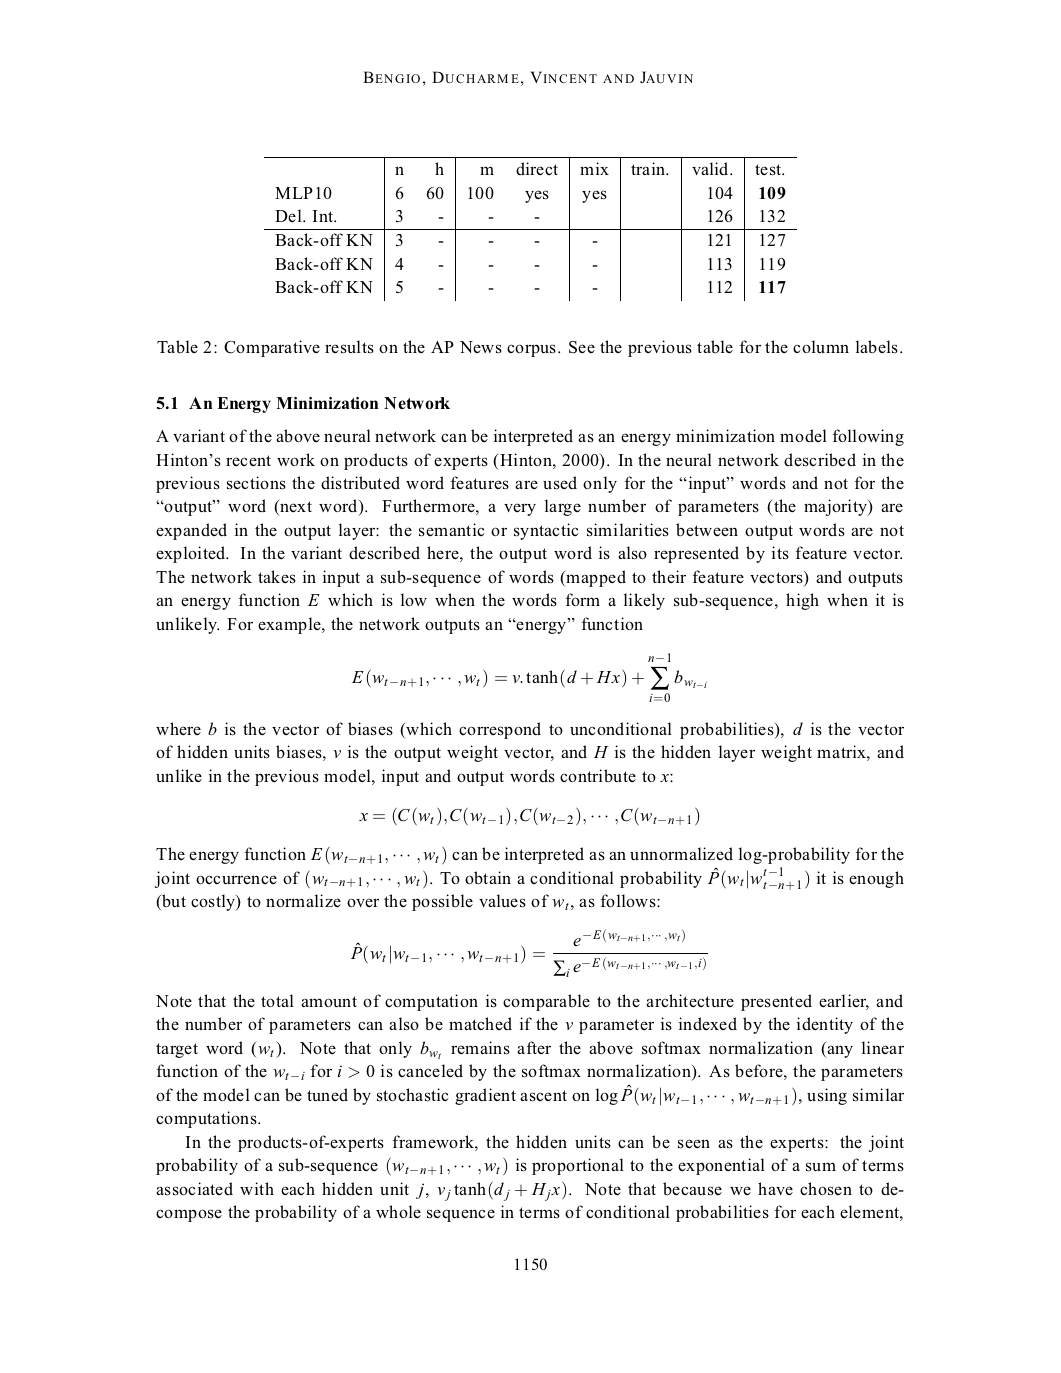Table: (264, 155, 796, 301)
formula: (350, 928, 707, 977), (351, 653, 705, 701), (359, 806, 699, 826)
